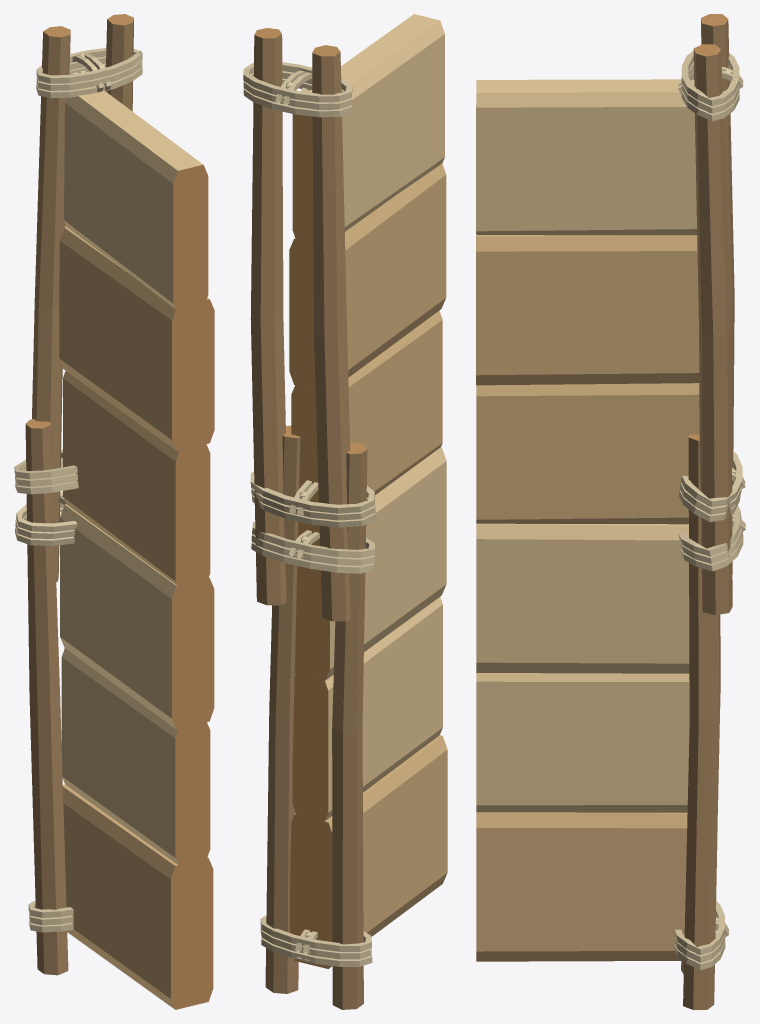
The model's file is architecture.wall.wood.fbx.
The picture shows the model from 3 angles, left to right: view 1: azimuth 30°, elevation 25°; view 2: azimuth 150°, elevation 25°; view 3: azimuth 270°, elevation 25°; orthographic projection. The views are drawn at different scales.
Parts seen in each view (by area): view 1: WALL_slab_2, WALL_slab_0, WALL_slab_1, WALL_stick_lo_b, WALL_stick_hi_b, WALL_bind_3, WALL_stick_hi_f, WALL_bind_2, WALL_bind_1, WALL_bind_0; view 2: WALL_slab_2, WALL_slab_0, WALL_slab_1, WALL_stick_hi_b, WALL_stick_hi_f, WALL_stick_lo_b, WALL_stick_lo_f, WALL_bind_3, WALL_bind_2, WALL_bind_1, WALL_bind_0; view 3: WALL_slab_2, WALL_slab_1, WALL_slab_0, WALL_stick_hi_f, WALL_stick_lo_f, WALL_stick_hi_b, WALL_bind_3, WALL_bind_2, WALL_bind_1, WALL_bind_0.
Boxes of the visible parts, box(x1,y1,x2,y2) form: WALL_slab_2: box(59, 90, 214, 450); WALL_slab_0: box(61, 648, 213, 1009); WALL_slab_1: box(60, 371, 214, 729); WALL_stick_lo_b: box(25, 419, 68, 975); WALL_stick_hi_b: box(32, 26, 70, 581); WALL_bind_3: box(36, 48, 142, 98); WALL_stick_hi_f: box(106, 14, 133, 111); WALL_bind_2: box(14, 449, 78, 494); WALL_bind_1: box(15, 492, 77, 545); WALL_bind_0: box(28, 900, 73, 932); WALL_slab_2: box(289, 14, 446, 389); WALL_slab_0: box(290, 597, 447, 968); WALL_slab_1: box(291, 310, 446, 680); WALL_stick_hi_b: box(312, 45, 350, 621); WALL_stick_hi_f: box(250, 28, 286, 605); WALL_stick_lo_b: box(332, 442, 367, 1009); WALL_stick_lo_f: box(265, 425, 300, 993); WALL_bind_3: box(243, 62, 352, 117); WALL_bind_2: box(250, 471, 375, 527); WALL_bind_1: box(251, 521, 374, 573); WALL_bind_0: box(260, 915, 372, 966); WALL_slab_2: box(476, 79, 699, 385); WALL_slab_1: box(476, 383, 699, 673); WALL_slab_0: box(476, 673, 689, 961); WALL_stick_hi_f: box(693, 44, 732, 615); WALL_stick_lo_f: box(683, 434, 719, 1009); WALL_stick_hi_b: box(701, 14, 734, 574); WALL_bind_3: box(678, 51, 743, 121); WALL_bind_2: box(679, 451, 745, 521); WALL_bind_1: box(678, 505, 745, 571); WALL_bind_0: box(674, 901, 728, 969).
Bounding box in the file's own units: 0.3268 × 2.3 × 0.5865.
